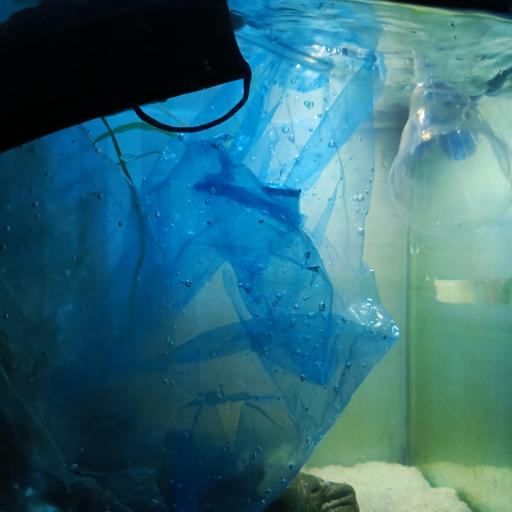mask: (2, 1, 254, 156)
plastic_bag: (6, 0, 400, 512)
plastic_cup: (390, 77, 508, 228)
plastic_straw: (238, 26, 420, 110)
